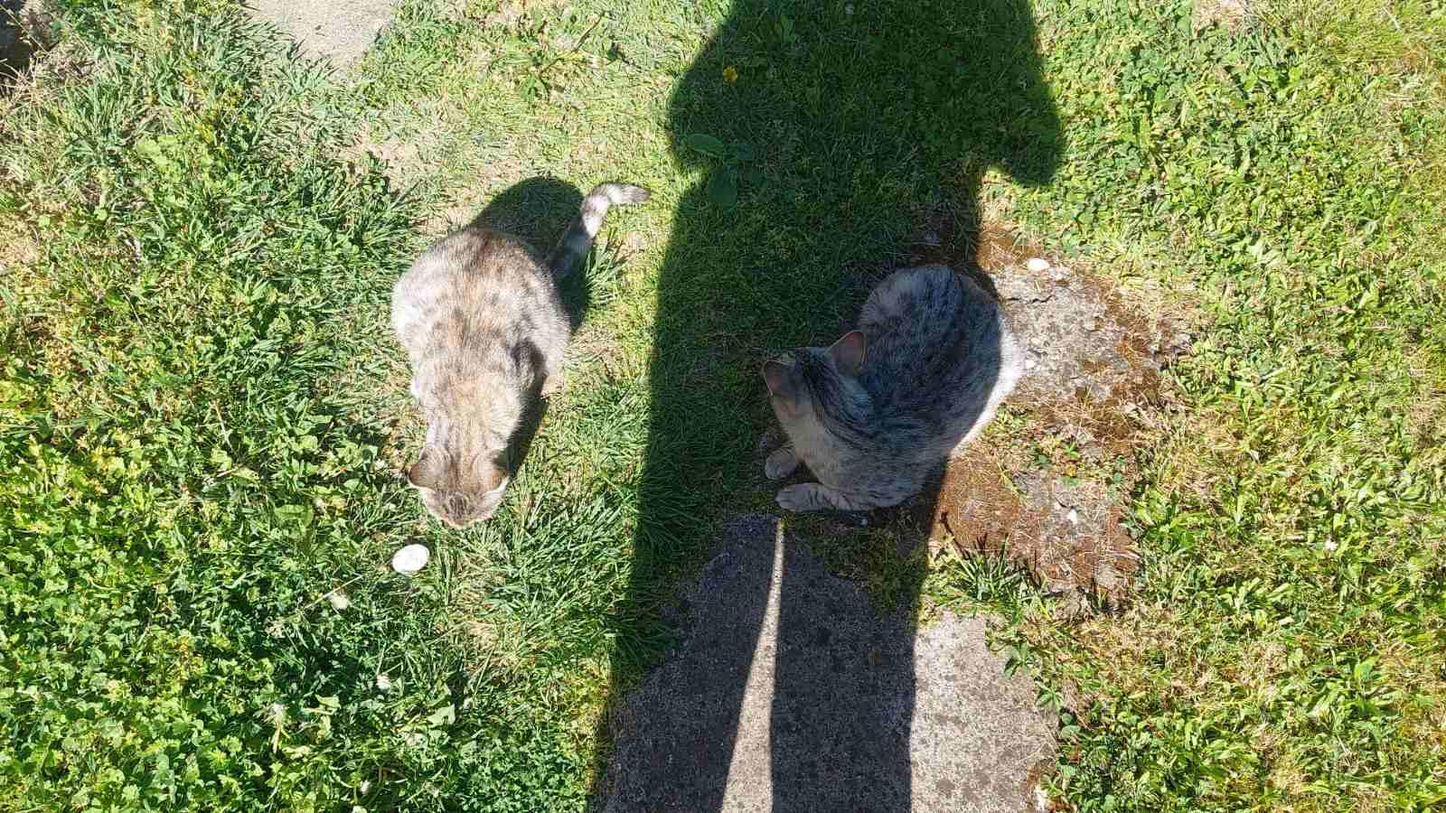macka: (394, 181, 649, 532), (763, 261, 1025, 516)
